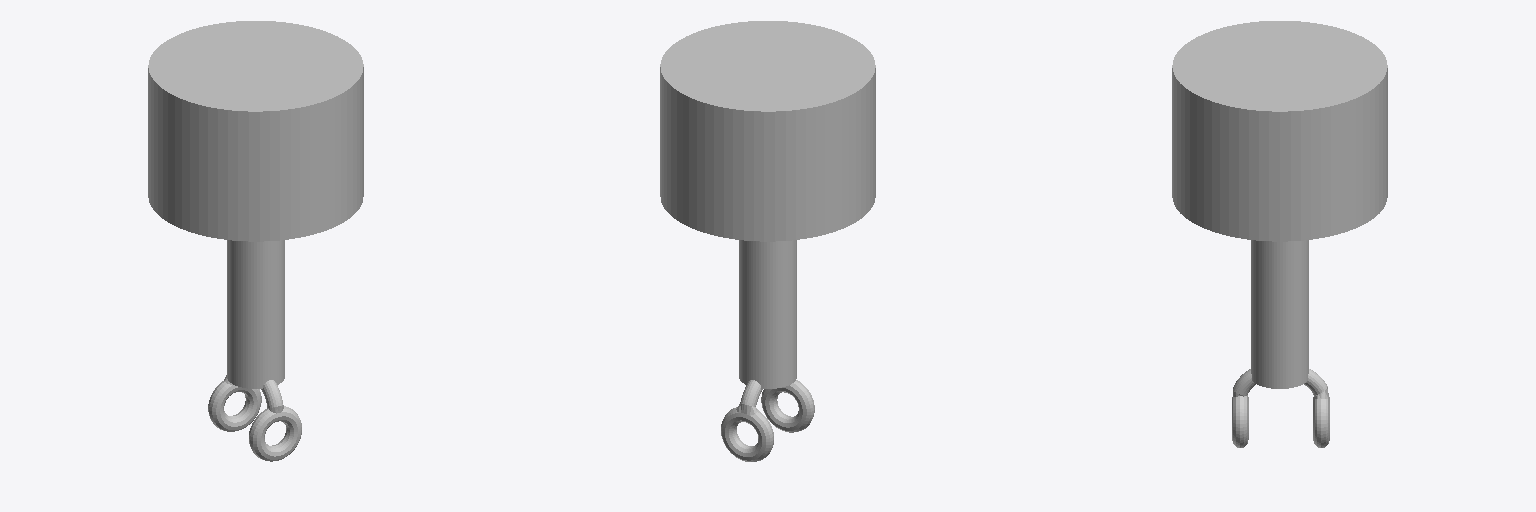
The model's file is piston.obj.
3 views of the same model, side by side, from view 1: azimuth 30°, elevation 25°; view 2: azimuth 150°, elevation 25°; view 3: azimuth 270°, elevation 25° (orthographic).
Parts seen in each view (by area): view 1: Cylinder; view 2: Cylinder; view 3: Cylinder.
Boxes of the visible parts, x1=… form: Cylinder: x1=148, y1=21, x2=363, y2=461; Cylinder: x1=660, y1=21, x2=875, y2=461; Cylinder: x1=1172, y1=21, x2=1387, y2=447.
Size of the model in its own units: 2 by 3.89 by 2.